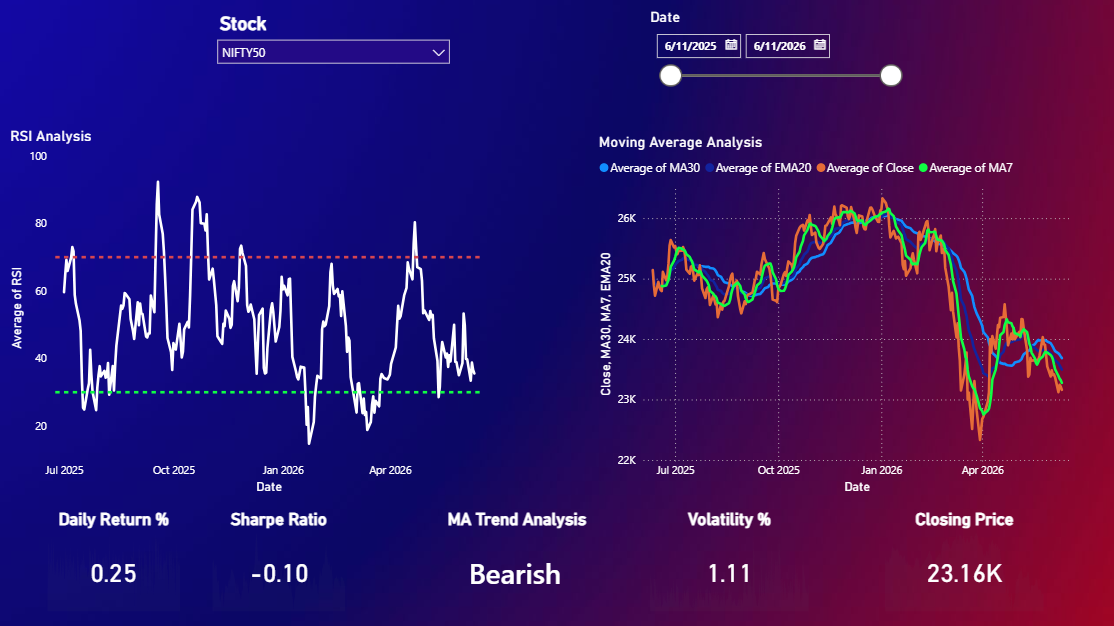

What the dashboard file says about the page in this screenshot:
{"tool":"powerbi","page":{"name":"Page 2","canvas":[1280,720],"ordinal":1},"visuals":[{"type":"slicer","fields":{"Values":["Sheet1.Stock"]},"box":[241.4,12.9,285.7,87.1],"z":0},{"type":"slicer","title":"Date","fields":{"Values":["Sheet1.Date"]},"box":[741.4,12.9,301.4,105.7],"z":1000},{"type":"lineChart","title":"RSI Analysis","fields":{"Y":["Avg(Sheet1.RSI)"],"Category":["Sheet1.Date"]},"box":[10,148.6,565.7,424.3],"z":2000},{"type":"lineChart","title":"Moving Average Analysis","fields":{"Category":["Sheet1.Date"],"Y":["Avg(Sheet1.MA30)","Avg(Sheet1.EMA20)","Avg(Sheet1.Close)","Avg(Sheet1.MA7)"]},"box":[682.9,155.7,564.3,417.1],"z":3000},{"type":"kpi","title":"Daily Return %","fields":{"Indicator":["Avg(Sheet1.Daily Return %)"],"TrendLine":["Sheet1.Date"]},"box":[52.9,585.7,161.4,121.4],"z":4000},{"type":"kpi","title":"Sharpe Ratio","fields":{"TrendLine":["Sheet1.Date"],"Indicator":["Avg(Sheet1.Sharpe Ratio)"]},"box":[241.4,585.7,161.4,121.4],"z":5000},{"type":"cardVisual","title":"MA Trend Analysis","fields":{"Data":["Sheet1.Measure 2"]},"box":[510,585.7,191.4,121.4],"z":6000},{"type":"kpi","title":"Volatility %","fields":{"TrendLine":["Sheet1.Date"],"Indicator":["Avg(Sheet1.Volatility %)"]},"box":[741.4,585.7,191.4,121.4],"z":7000},{"type":"kpi","title":"Closing Price","fields":{"TrendLine":["Sheet1.Date"],"Indicator":["Avg(Sheet1.Close)"]},"box":[1010,585.7,191.4,121.4],"z":8000}]}

Visuals, with their boxes in screenshot pixels (x1, y1, x2, y2), scaled from the page's 1280x720 canvas onto the 1114x626 screenshot:
slicer - Sheet1.Stock: 210,11,459,87
"Date" slicer: 645,11,908,103
"RSI Analysis" lineChart: 9,129,501,498
"Moving Average Analysis" lineChart: 594,135,1085,498
"Daily Return %" kpi: 46,509,187,615
"Sharpe Ratio" kpi: 210,509,351,615
"MA Trend Analysis" cardVisual: 444,509,610,615
"Volatility %" kpi: 645,509,812,615
"Closing Price" kpi: 879,509,1046,615
